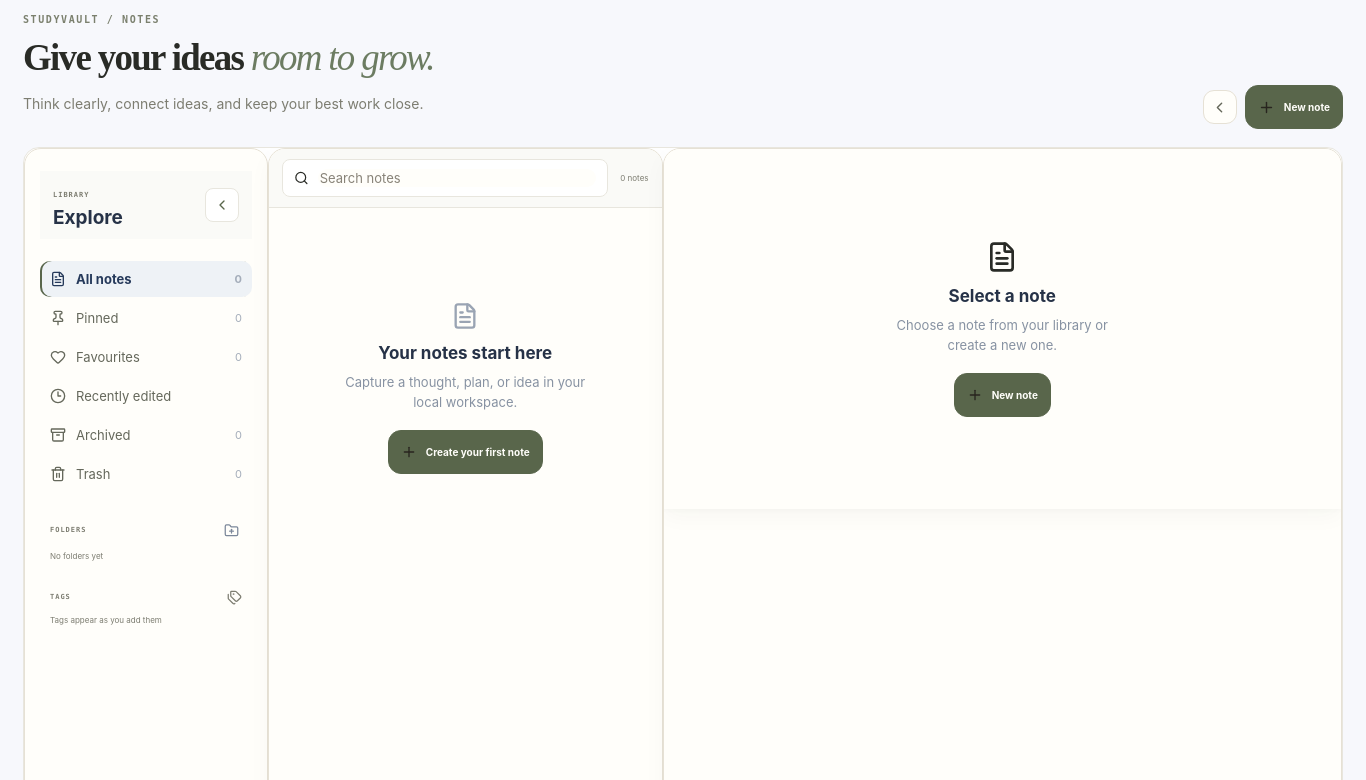
Notes and application regression › creates a folder and filters the Notes workspace by it
Expected: the text "No folders yet" is shown, [50,551,103,561]
Click the button named "Create folder" at (232, 531), box [221,520,242,541]
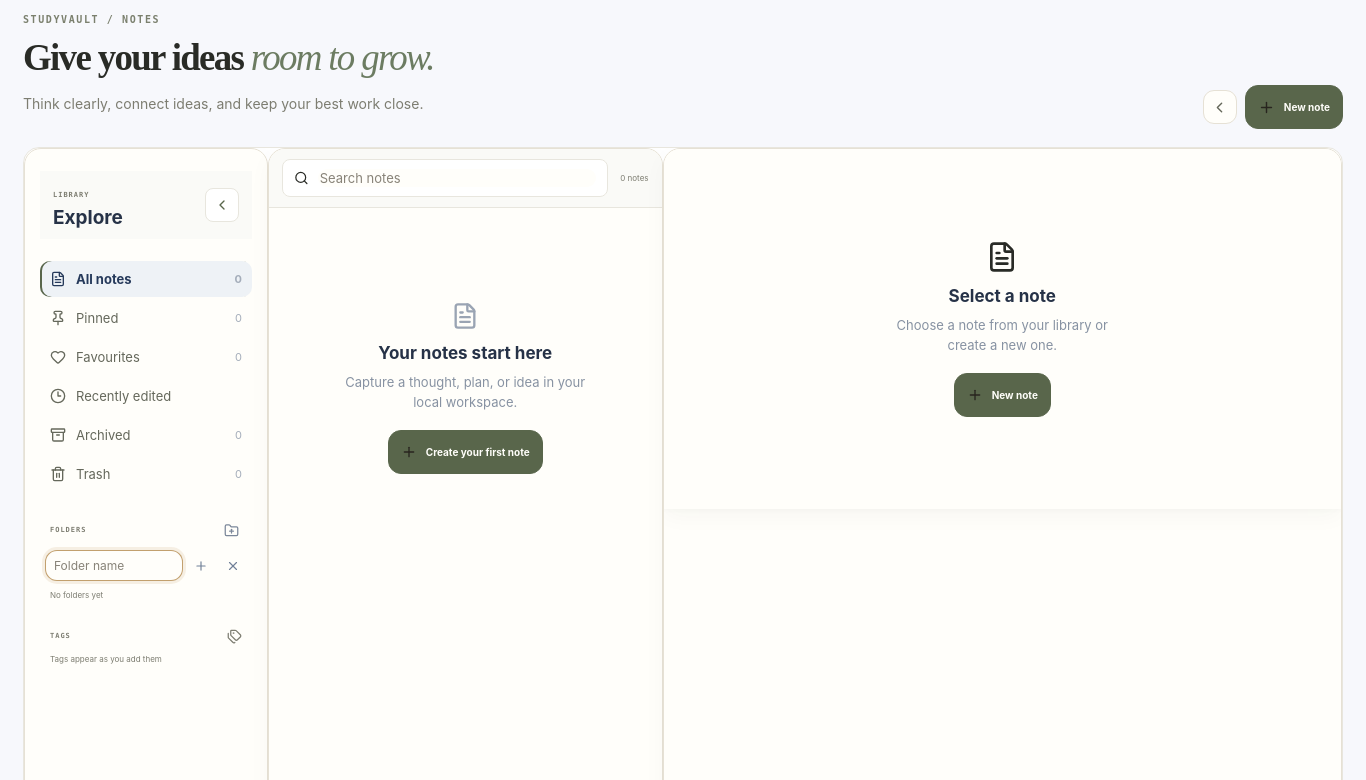
Type "Research" into the field named "New folder name" at (114, 566), box [45,550,183,581]
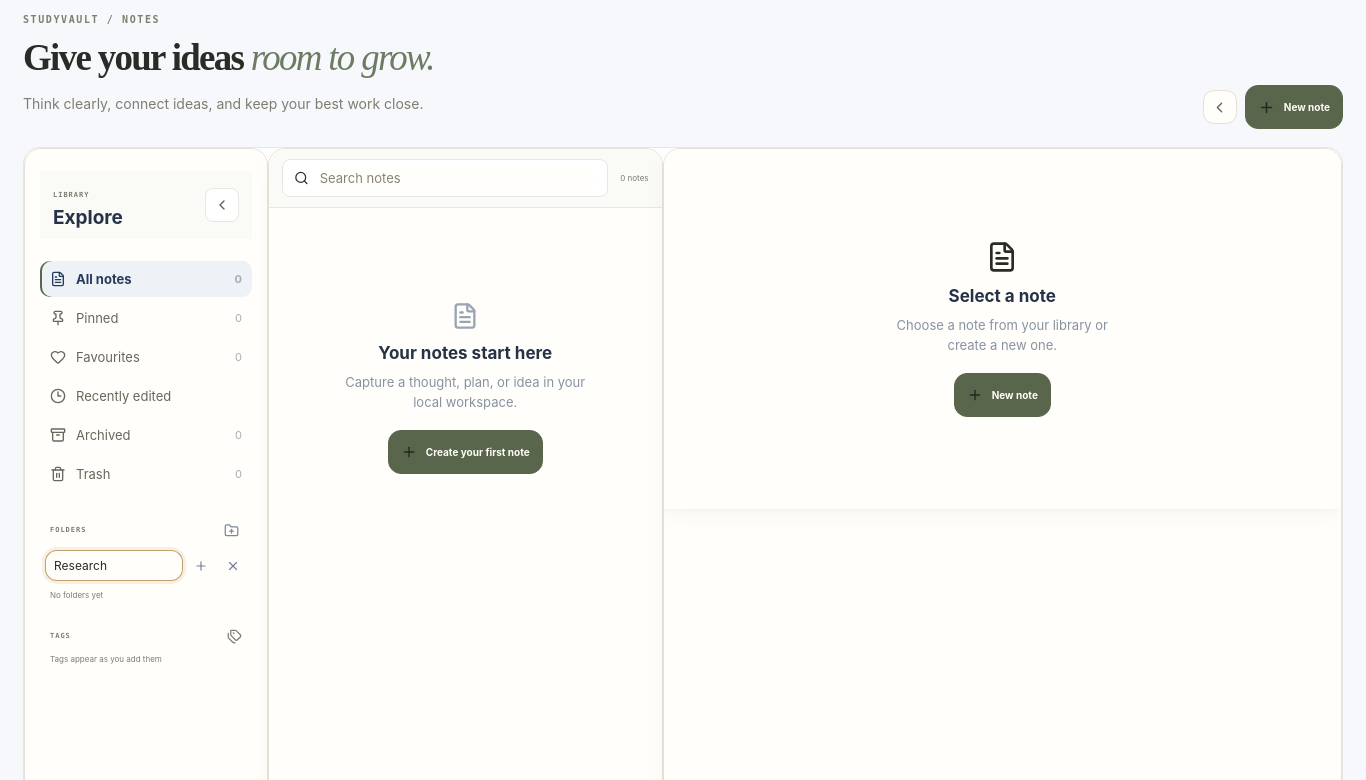
Click the button named "Save folder" at (201, 566), box [187,552,215,580]
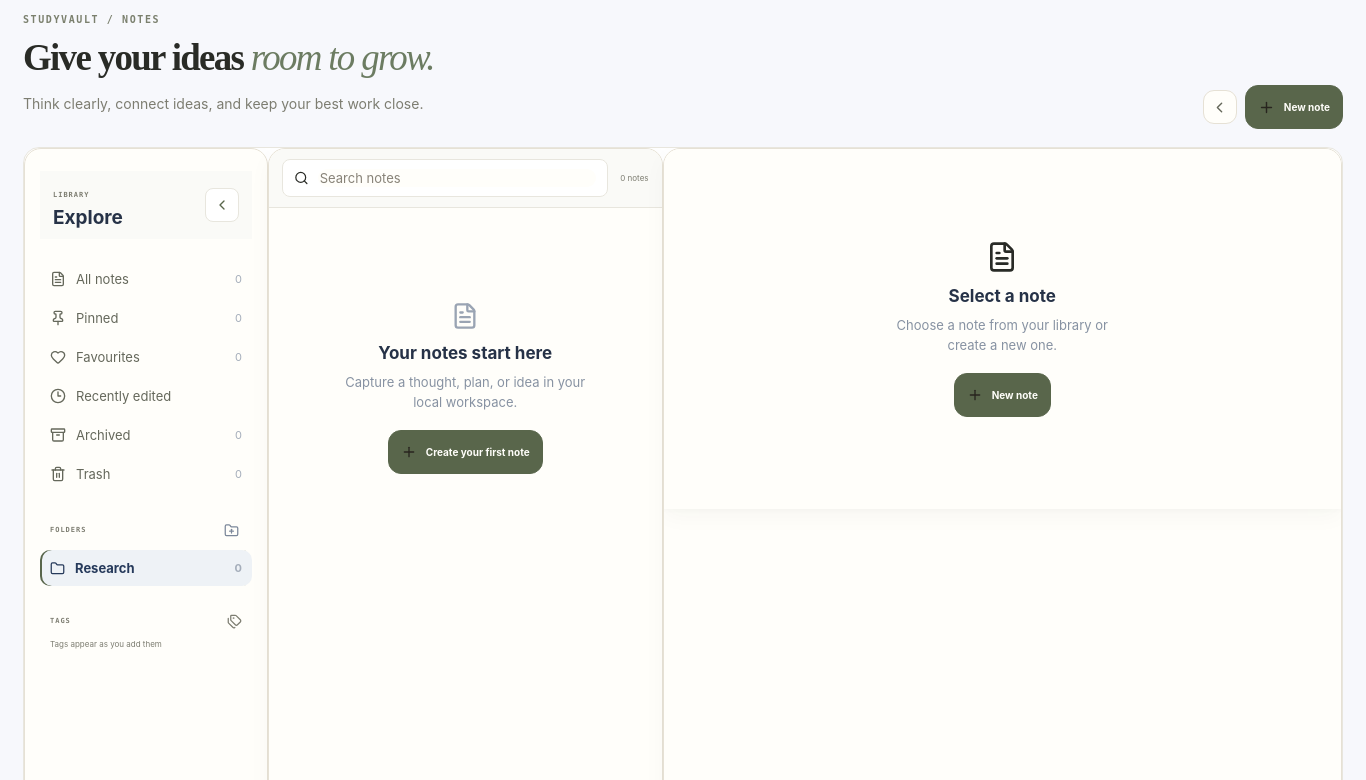
Expected: the text "0 notes" is shown, [620,173,649,183]
Expected: the button "Research 0" is shown, [40,550,252,586]
